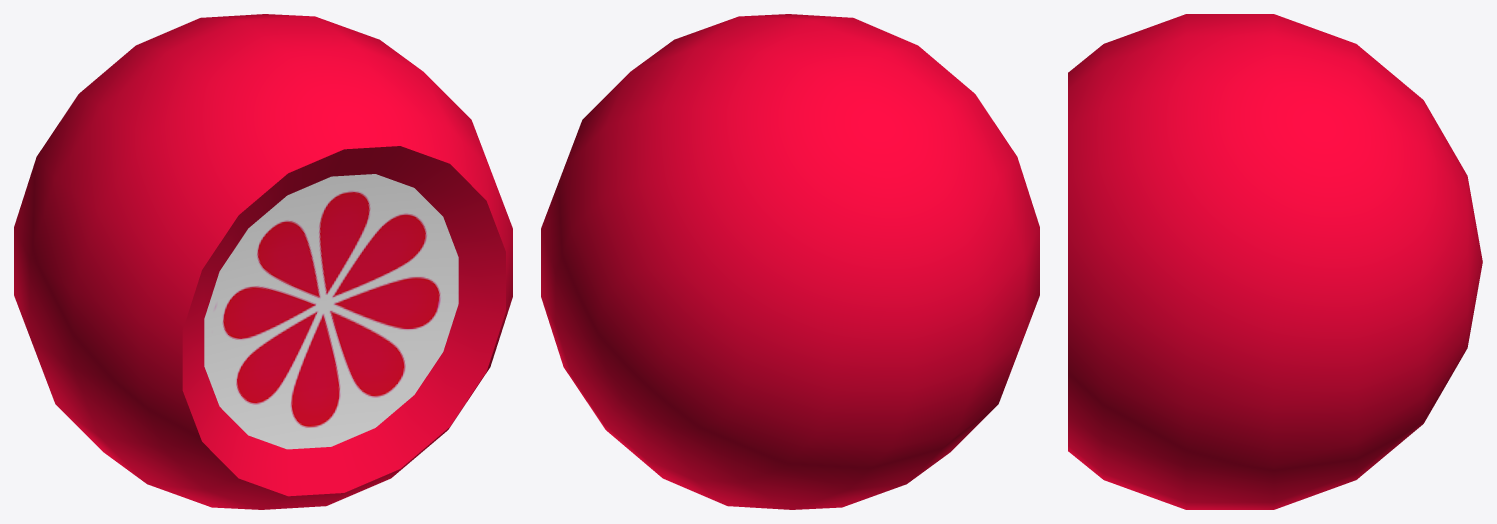
The model's file is Candy_Citrus-A.FBX.
3 views of the same model, side by side, from view 1: azimuth 30°, elevation 25°; view 2: azimuth 150°, elevation 25°; view 3: azimuth 270°, elevation 25° (orthographic).
Visible parts, largest first — view 1: Candy_Citrus-A; view 2: Candy_Citrus-A; view 3: Candy_Citrus-A.
Boxes of the visible parts, x1,y1,x2,y2 form: Candy_Citrus-A: (14, 14, 512, 509); Candy_Citrus-A: (541, 14, 1039, 509); Candy_Citrus-A: (1068, 14, 1482, 509).
Size of the model in its own units: 1332 by 1352 by 1127.
